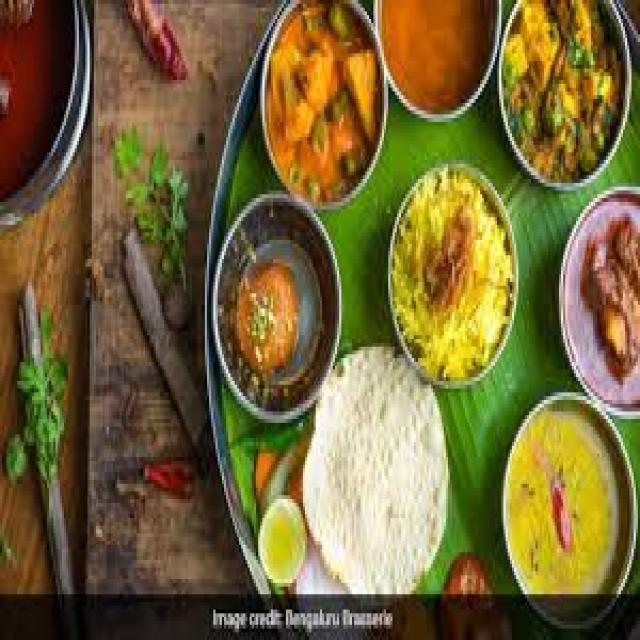pickle: (561, 210, 640, 387)
rice: (305, 351, 447, 585)
sambar-rasam: (216, 212, 338, 403), (1, 0, 87, 196), (376, 0, 499, 115)
sweet: (559, 217, 639, 383)
veg-fry: (255, 1, 387, 202), (391, 170, 514, 384)
